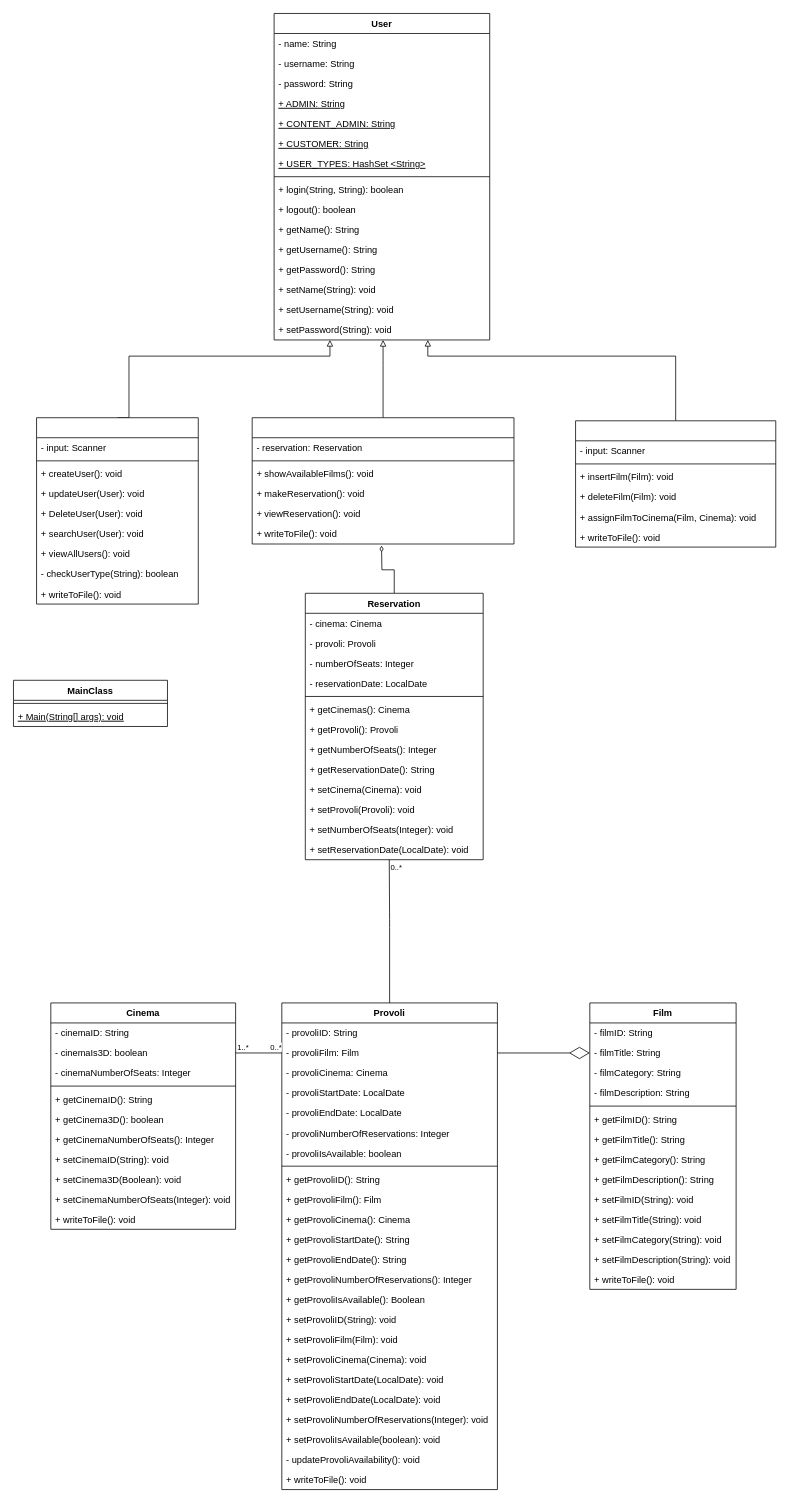
This 789x1505 diagram has some shape labels left out. The shapes that lost their labels are listed below. From the top down, each one's box as (x1, y1, x2, y2) in pixels, then its label:
(251, 417, 514, 544): Customer
(575, 420, 776, 547): ContentAdmin
(36, 417, 198, 604): Admin
